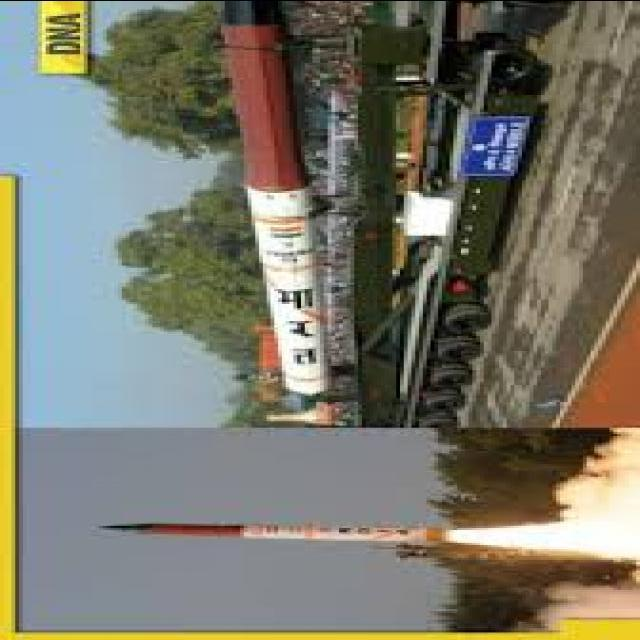Missile: (205, 0, 349, 432), (62, 516, 457, 548)
